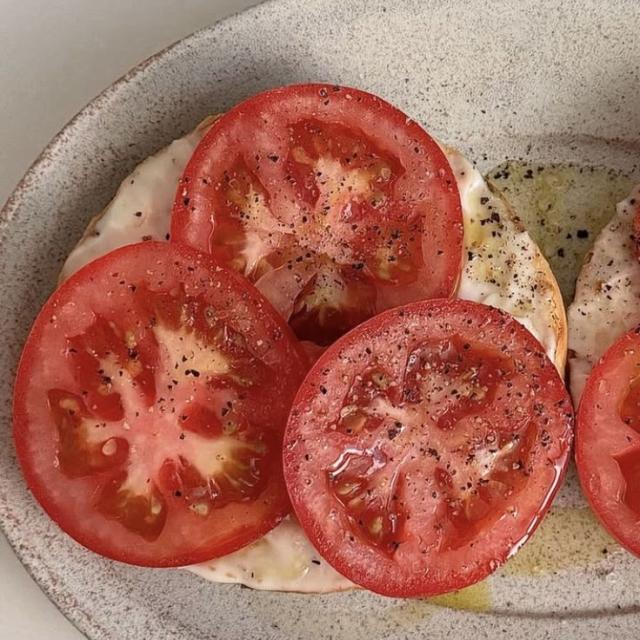sliced tomatoe: (14, 242, 306, 566), (284, 300, 573, 597), (172, 85, 462, 346), (575, 329, 639, 556)
